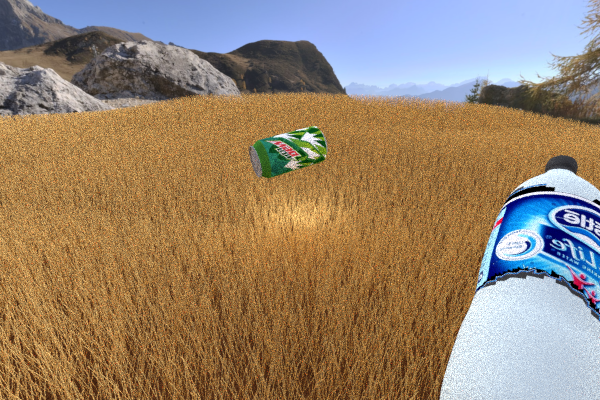Plastic Bottle: (439, 155, 600, 400), (248, 125, 327, 178), (325, 112, 363, 139)
